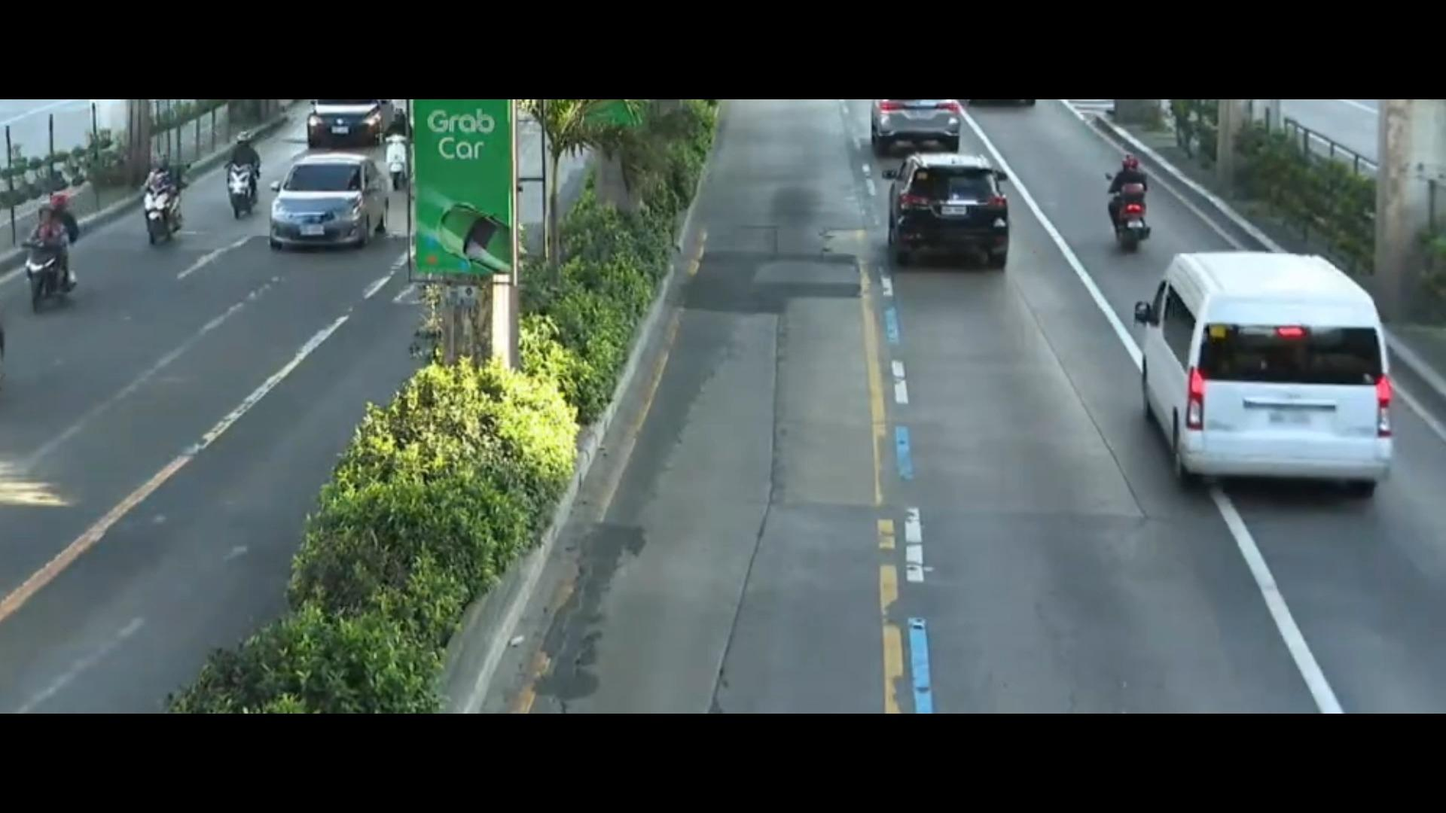Motorcycle: (0, 190, 100, 320), (122, 145, 204, 251), (1099, 145, 1170, 252), (223, 136, 270, 222), (368, 113, 418, 189)
SUV: (866, 155, 1023, 279)
Sedan: (263, 155, 398, 258)
Van: (1138, 221, 1435, 534)
